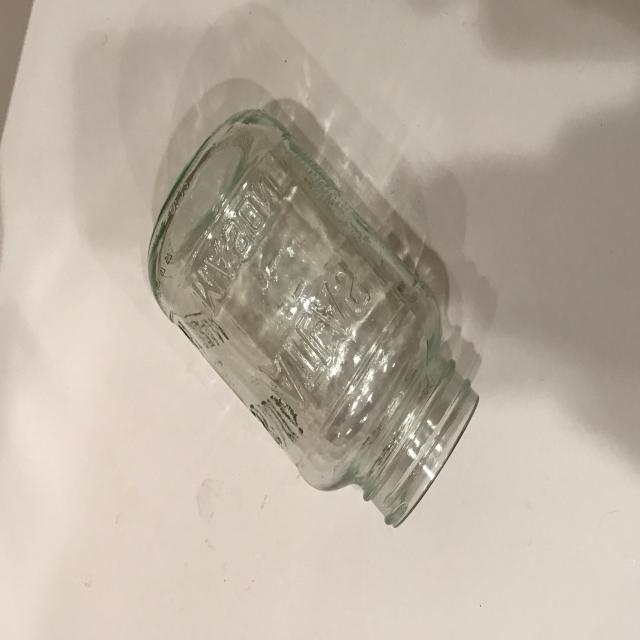glass: (135, 86, 502, 515)
